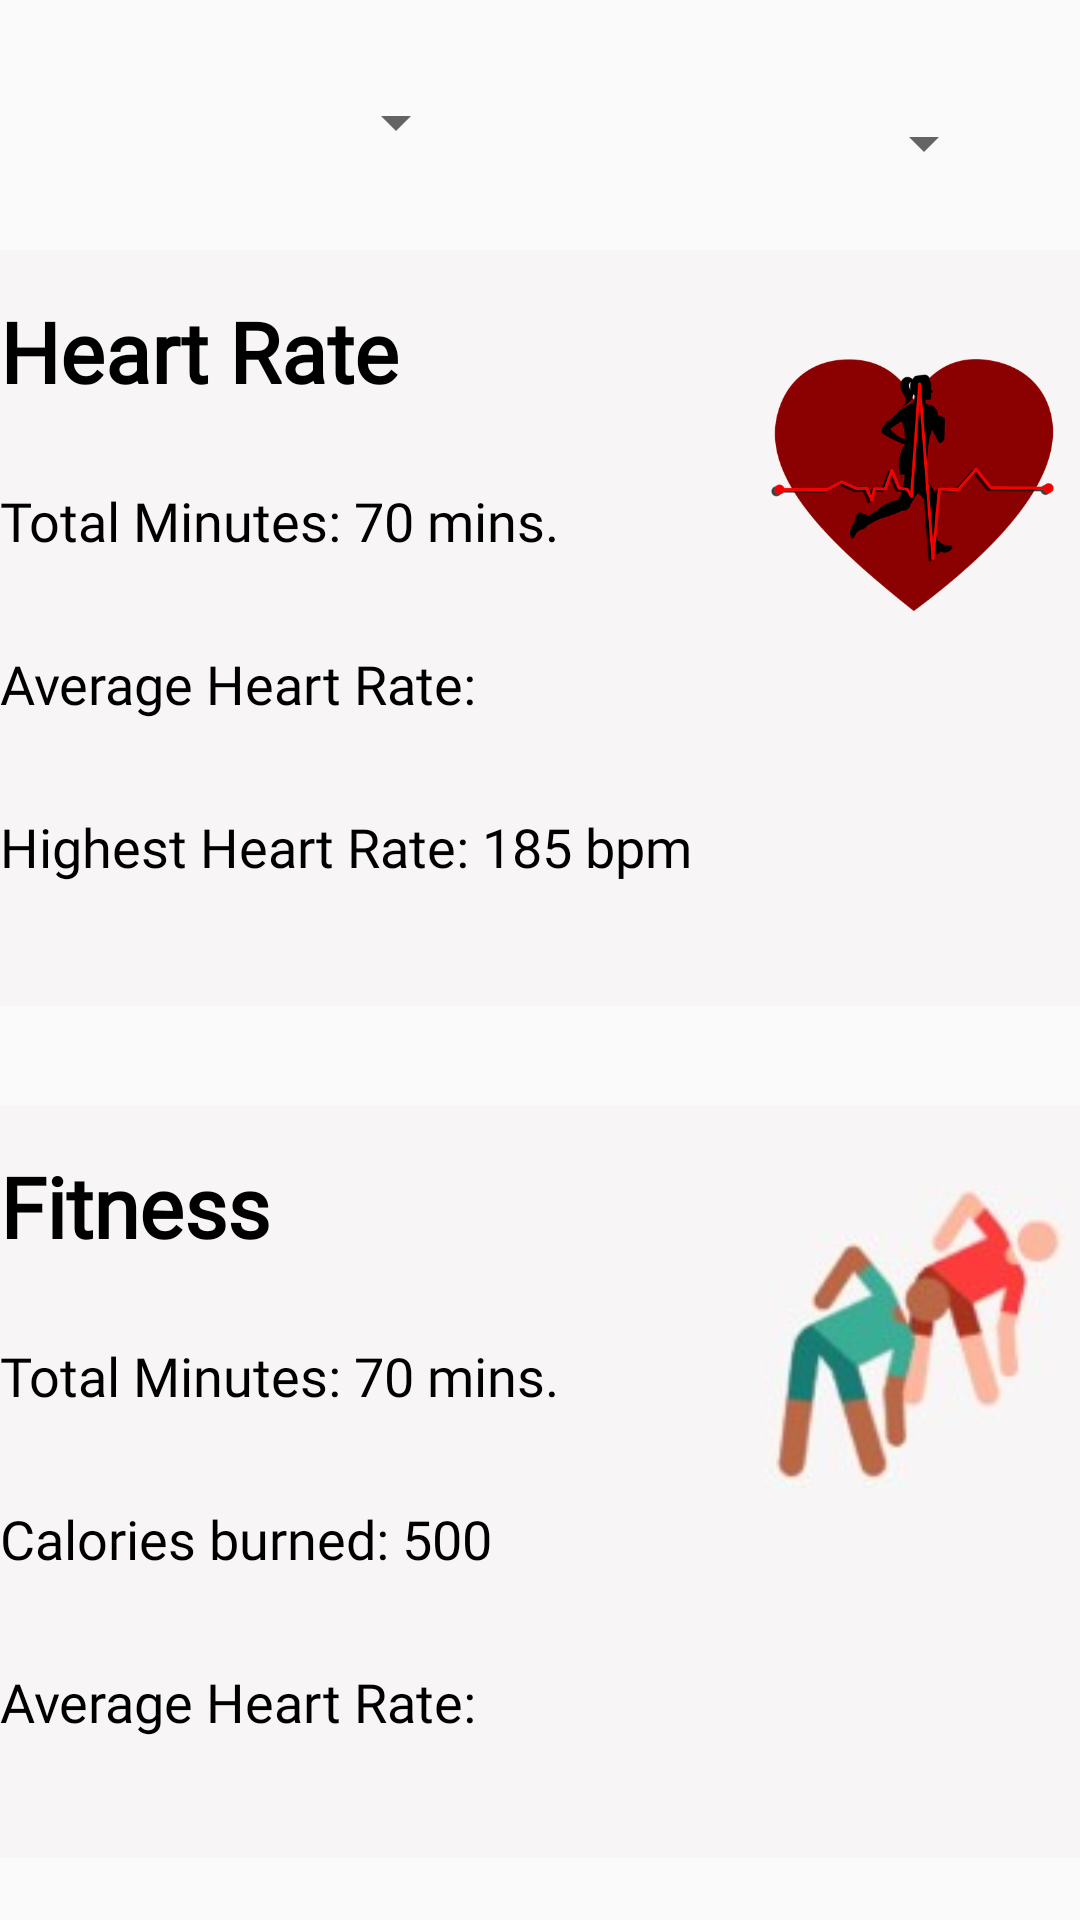

Screen size 1080*1920. Icon name, then its center in pixels as (x,y):
Fitness Image: (918,1335)
